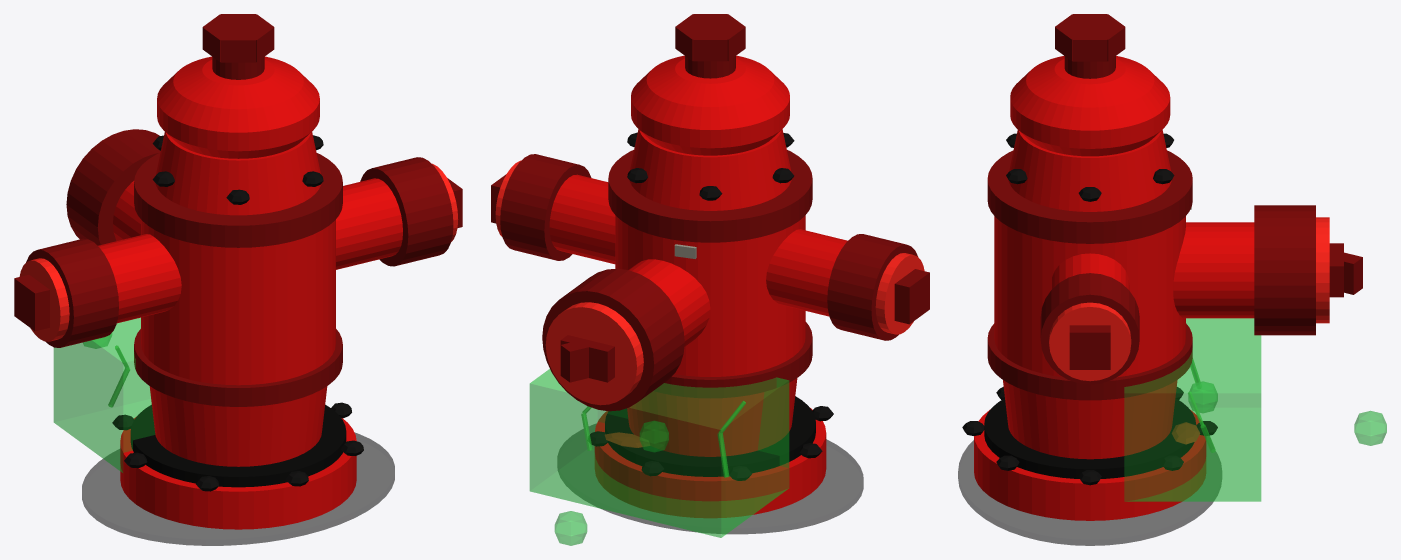
File: red_fire_hydrant.obj
The picture shows the model from 3 angles, left to right: view 1: azimuth 30°, elevation 25°; view 2: azimuth 150°, elevation 25°; view 3: azimuth 270°, elevation 25°; orthographic projection. The views are drawn at different scales.
Visible parts, largest first — view 1: Main_cylindrical_hydrant_barrel, Rounded_domelike_top_bonnet, Wide_round_base_flange_red, Guide_Scent_Source_Area_delete_or_hide, Lower_tapered_hydrant_body, Round_ground_mount_shadow, Upper_bonnet_neck, Upper_body_band_ring, Front_large_pumper_nozzle_cap, Base_black_gasket_ring, Right_side_nozzle_round_cap, Left_side_nozzle_round_cap (+10 smaller); view 2: Guide_Scent_Source_Area_delete_or_hide, Main_cylindrical_hydrant_barrel, Rounded_domelike_top_bonnet, Wide_round_base_flange_red, Round_ground_mount_shadow, Lower_tapered_hydrant_body, Upper_bonnet_neck, Upper_body_band_ring, Front_large_pumper_nozzle_cap, Front_large_nozzle_face_plate, Right_side_nozzle_round_cap, Left_side_nozzle_round_cap (+15 smaller); view 3: Guide_Scent_Source_Area_delete_or_hide, Main_cylindrical_hydrant_barrel, Rounded_domelike_top_bonnet, Wide_round_base_flange_red, Lower_tapered_hydrant_body, Upper_bonnet_neck, Upper_body_band_ring, Front_large_pumper_nozzle_cap, Round_ground_mount_shadow, Front_large_pumper_nozzle_neck, Base_black_gasket_ring, Lower_body_band_ring (+13 smaller).
Boxes of the visible parts, bbox=[...] form: Main_cylindrical_hydrant_barrel: bbox=[141, 219, 335, 385]; Rounded_domelike_top_bonnet: bbox=[157, 56, 319, 158]; Wide_round_base_flange_red: bbox=[120, 416, 356, 529]; Guide_Scent_Source_Area_delete_or_hide: bbox=[53, 317, 154, 472]; Lower_tapered_hydrant_body: bbox=[149, 386, 327, 466]; Round_ground_mount_shadow: bbox=[82, 432, 394, 545]; Upper_bonnet_neck: bbox=[155, 132, 321, 215]; Upper_body_band_ring: bbox=[134, 153, 342, 247]; Front_large_pumper_nozzle_cap: bbox=[66, 129, 160, 245]; Base_black_gasket_ring: bbox=[130, 405, 346, 487]; Right_side_nozzle_round_cap: bbox=[360, 157, 453, 266]; Left_side_nozzle_round_cap: bbox=[26, 238, 118, 347]; Guide_Scent_Source_Area_delete_or_hide: bbox=[529, 369, 789, 537]; Main_cylindrical_hydrant_barrel: bbox=[615, 215, 805, 376]; Rounded_domelike_top_bonnet: bbox=[631, 55, 789, 155]; Wide_round_base_flange_red: bbox=[594, 408, 826, 517]; Round_ground_mount_shadow: bbox=[557, 424, 863, 534]; Lower_tapered_hydrant_body: bbox=[627, 378, 797, 456]; Upper_bonnet_neck: bbox=[629, 129, 791, 210]; Upper_body_band_ring: bbox=[608, 150, 812, 242]; Front_large_pumper_nozzle_cap: bbox=[542, 268, 684, 411]; Front_large_nozzle_face_plate: bbox=[545, 302, 643, 405]; Right_side_nozzle_round_cap: bbox=[500, 154, 591, 260]; Left_side_nozzle_round_cap: bbox=[827, 234, 917, 340]; Guide_Scent_Source_Area_delete_or_hide: bbox=[1124, 318, 1261, 501]; Main_cylindrical_hydrant_barrel: bbox=[994, 216, 1185, 377]; Rounded_domelike_top_bonnet: bbox=[1010, 56, 1170, 156]; Wide_round_base_flange_red: bbox=[974, 409, 1206, 520]; Lower_tapered_hydrant_body: bbox=[1003, 380, 1177, 459]; Upper_bonnet_neck: bbox=[1008, 130, 1171, 211]; Upper_body_band_ring: bbox=[987, 150, 1192, 243]; Front_large_pumper_nozzle_cap: bbox=[1254, 205, 1315, 335]; Round_ground_mount_shadow: bbox=[958, 440, 1221, 545]; Front_large_pumper_nozzle_neck: bbox=[1173, 222, 1254, 318]; Base_black_gasket_ring: bbox=[984, 398, 1196, 478]; Lower_body_band_ring: bbox=[987, 323, 1192, 400].
Size of what is drawn, in the model's own units: 1.42 by 1.46 by 1.25.
